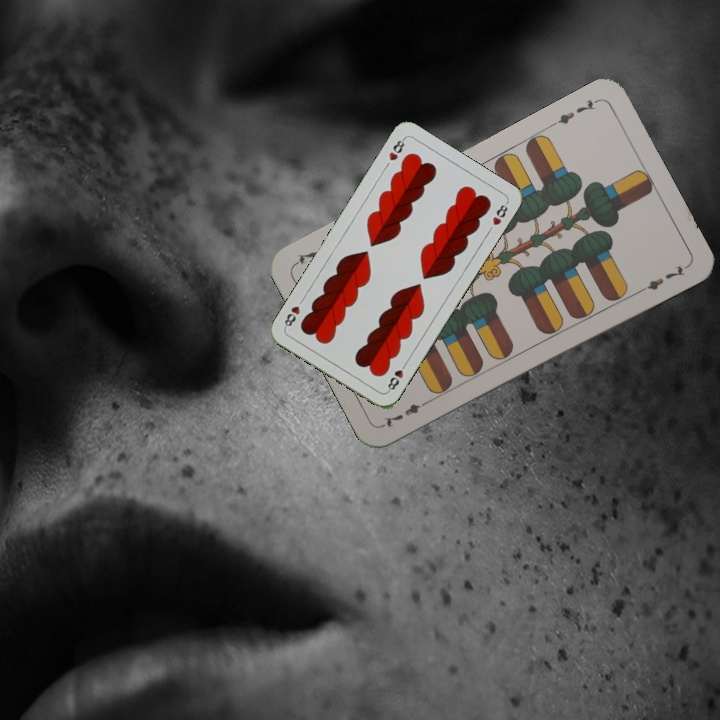E7: (379, 395, 433, 430), (547, 95, 601, 129)
H8: (383, 358, 410, 394), (385, 134, 408, 163)
